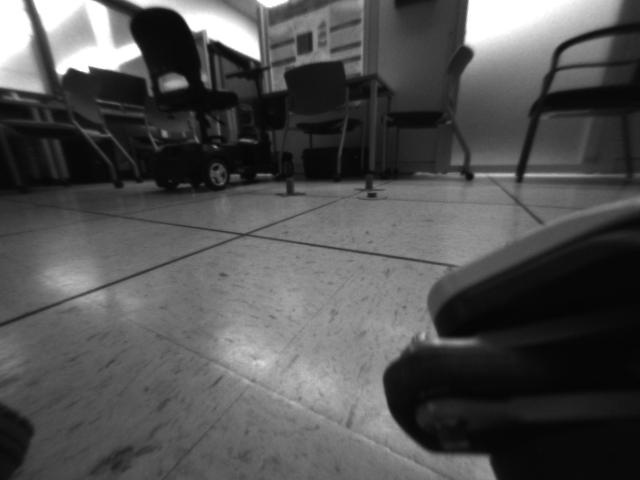X: (278, 176, 308, 199), (358, 175, 383, 193)
